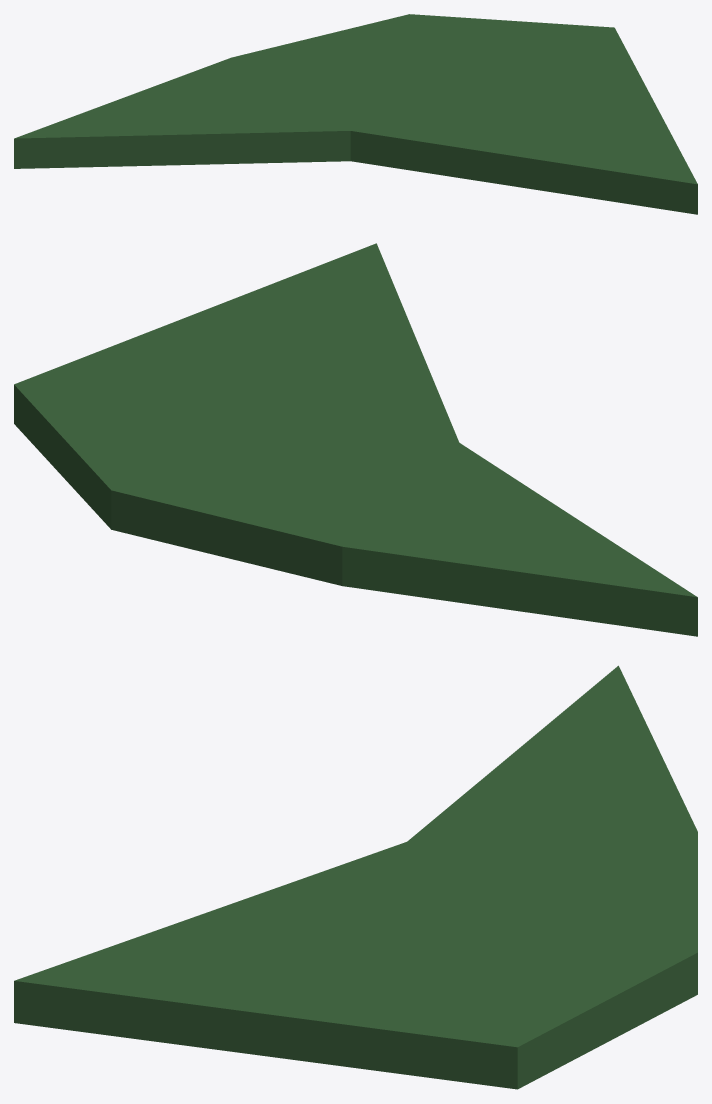
The model's file is x_proval_00_89_1_rmstrd.fbx.
The picture shows the model from 3 angles, top to bottom: view 1: azimuth 30°, elevation 25°; view 2: azimuth 150°, elevation 25°; view 3: azimuth 270°, elevation 25°; orthographic projection. The views are drawn at different scales.
Visible parts, largest first — view 1: x_proval_00_89_1_rmstrd1; view 2: x_proval_00_89_1_rmstrd1; view 3: x_proval_00_89_1_rmstrd1.
Part boxes in pixels (x1,y1,x2,y2): x_proval_00_89_1_rmstrd1: (14,14,697,214); x_proval_00_89_1_rmstrd1: (14,243,697,636); x_proval_00_89_1_rmstrd1: (14,665,697,1089).
Size of the model in its own units: 3.88 by 0.2 by 2.94.
